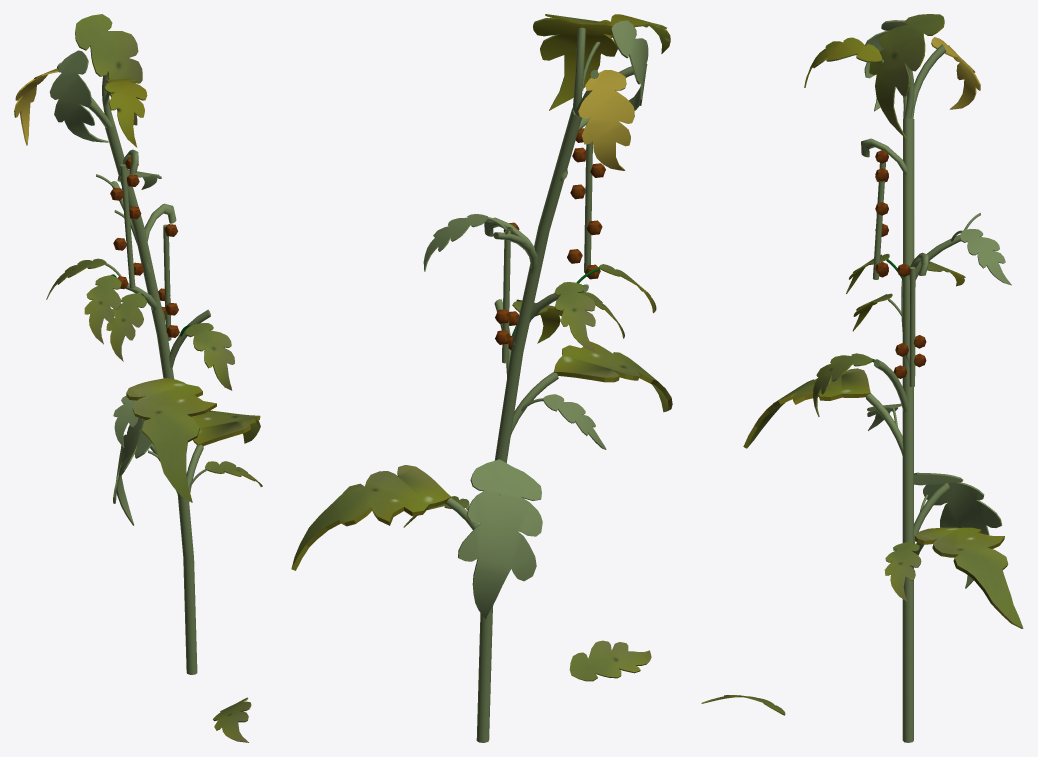
Rendered from 番茄往生.FBX.
The picture shows the model from 3 angles, left to right: view 1: azimuth 30°, elevation 25°; view 2: azimuth 150°, elevation 25°; view 3: azimuth 270°, elevation 25°; orthographic projection. The views are drawn at different scales.
Visible parts, largest first — view 1: Line023, Cylinder007, Line006, Line005, Line013, Line009, Line011, Line020, Line019, Line003, Line010, Line007 (+7 smaller); view 2: Line003, Cylinder007, Line013, Line007, Line006, Line023, Line010, Line021, Line005, Line015, Line024, Cylinder026 (+4 smaller); view 3: Cylinder007, Line013, Line006, Line003, Line023, Line014, Line015, Line011, Line009, Line007, Cylinder027, Cylinder026 (+1 smaller).
Boxes of the visible parts, left/top/right/bottom form: Line023: left=126, top=378, right=216, bottom=502; Cylinder007: left=105, top=122, right=197, bottom=674; Line006: left=75, top=14, right=142, bottom=125; Line005: left=49, top=50, right=108, bottom=142; Line013: left=191, top=410, right=260, bottom=446; Line009: left=185, top=323, right=234, bottom=390; Line011: left=104, top=78, right=147, bottom=147; Line020: left=84, top=275, right=121, bottom=344; Line019: left=106, top=293, right=147, bottom=361; Line003: left=113, top=417, right=152, bottom=525; Line010: left=213, top=697, right=251, bottom=742; Line007: left=14, top=68, right=58, bottom=145; Line003: left=458, top=459, right=542, bottom=618; Cylinder007: left=476, top=108, right=581, bottom=742; Line013: left=291, top=465, right=450, bottom=570; Line007: left=578, top=70, right=634, bottom=170; Line006: left=533, top=14, right=617, bottom=110; Line023: left=554, top=341, right=672, bottom=412; Line010: left=569, top=640, right=651, bottom=681; Line021: left=554, top=282, right=595, bottom=352; Line005: left=610, top=20, right=648, bottom=110; Line015: left=423, top=214, right=487, bottom=271; Line024: left=542, top=394, right=606, bottom=449; Cylinder026: left=584, top=141, right=592, bottom=272; Cylinder007: left=902, top=118, right=914, bottom=742; Line013: left=914, top=527, right=1023, bottom=628; Line006: left=869, top=14, right=944, bottom=138; Line003: left=914, top=472, right=1002, bottom=588; Line023: left=743, top=368, right=870, bottom=448; Line014: left=884, top=542, right=921, bottom=602; Line015: left=960, top=229, right=1011, bottom=285; Line011: left=804, top=37, right=882, bottom=87; Line009: left=813, top=353, right=872, bottom=416; Line007: left=931, top=37, right=980, bottom=109; Cylinder027: left=909, top=266, right=915, bottom=386; Cylinder026: left=873, top=162, right=885, bottom=279.
Size of the model in its own units: 22.41 by 53.23 by 22.91.
Materials: 51 (50 with a texture image).
